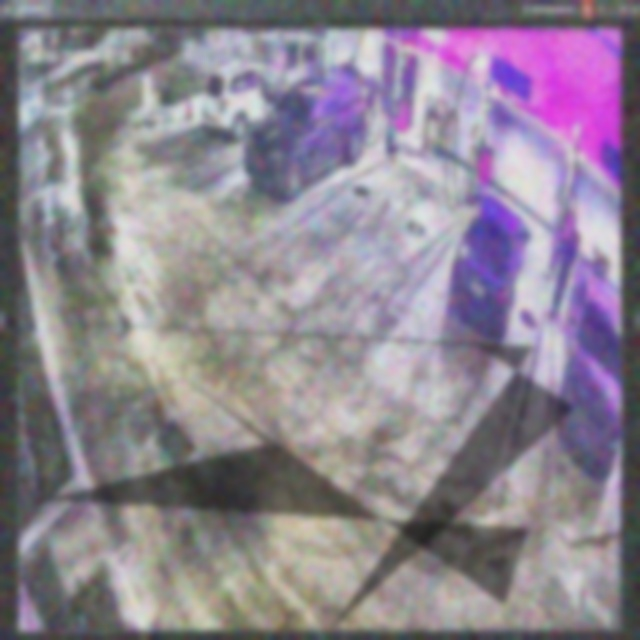Car: (245, 66, 368, 192), (448, 193, 529, 339), (201, 63, 296, 141)
